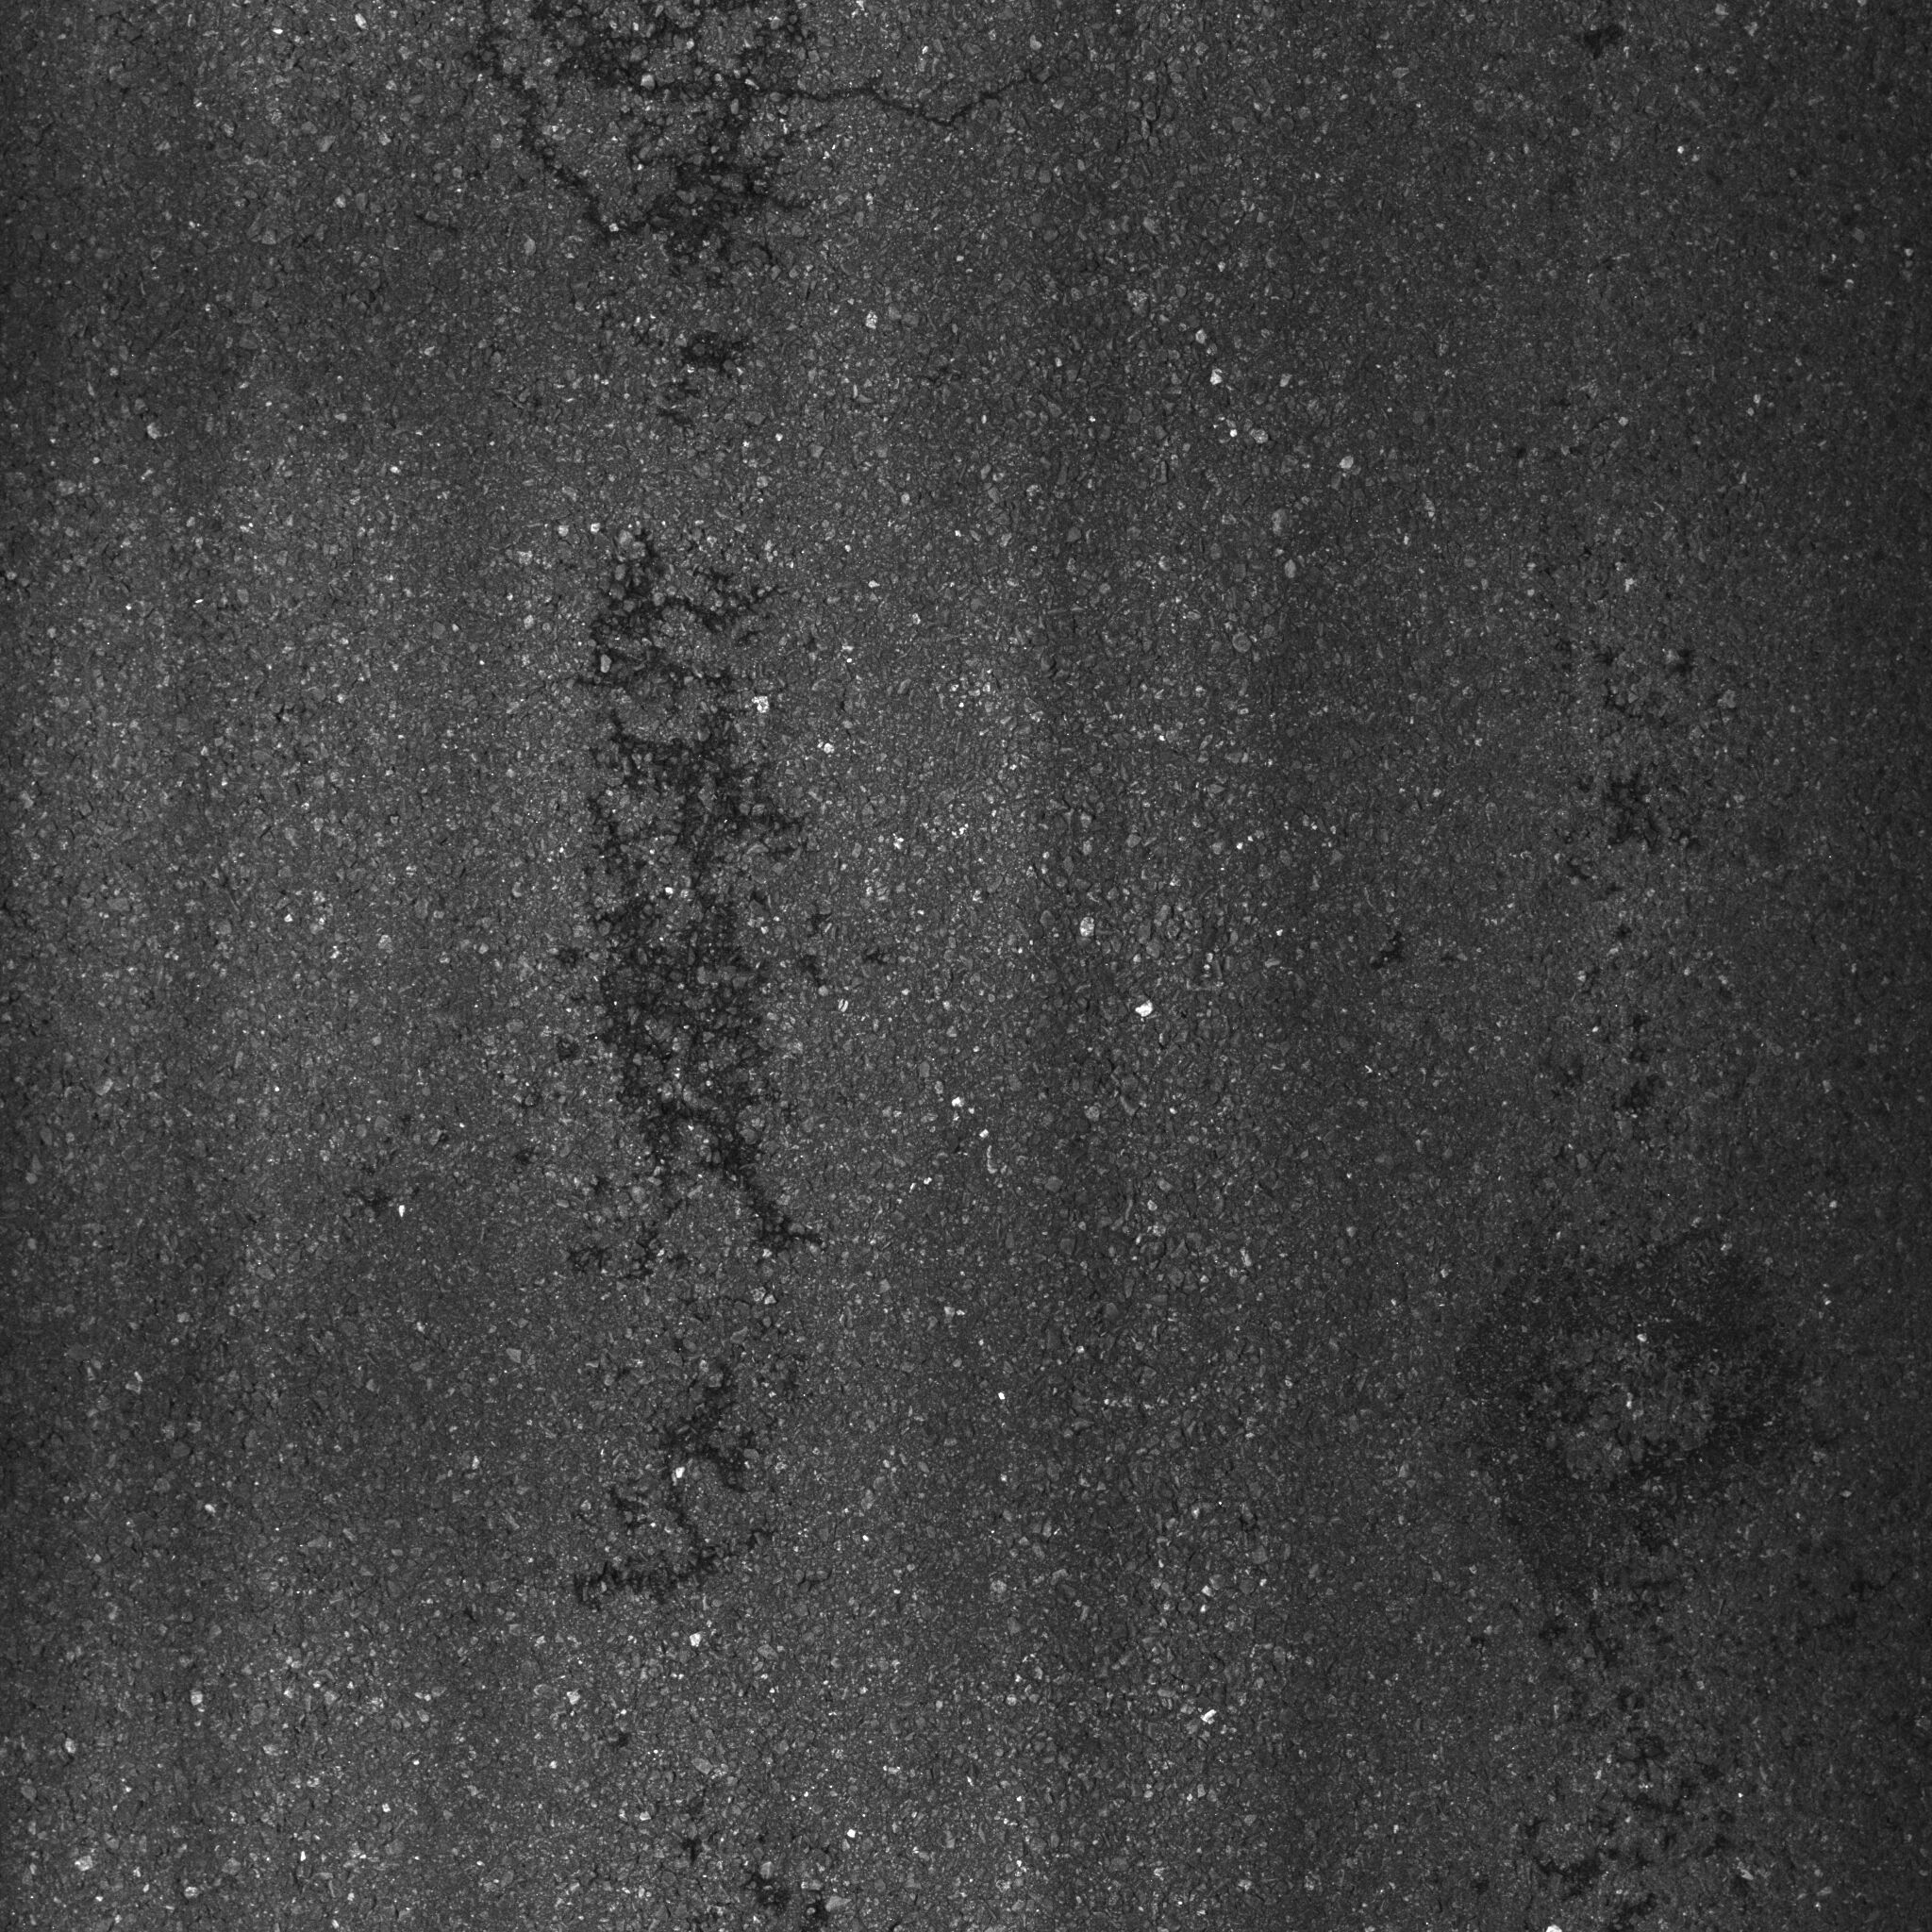alligator: (487, 520, 885, 1295), (336, 2, 1113, 292)
